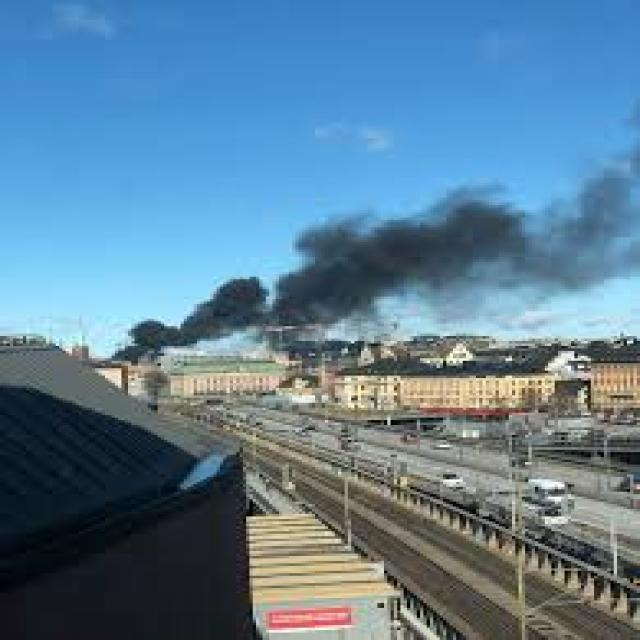Smoke: (119, 144, 640, 362)
